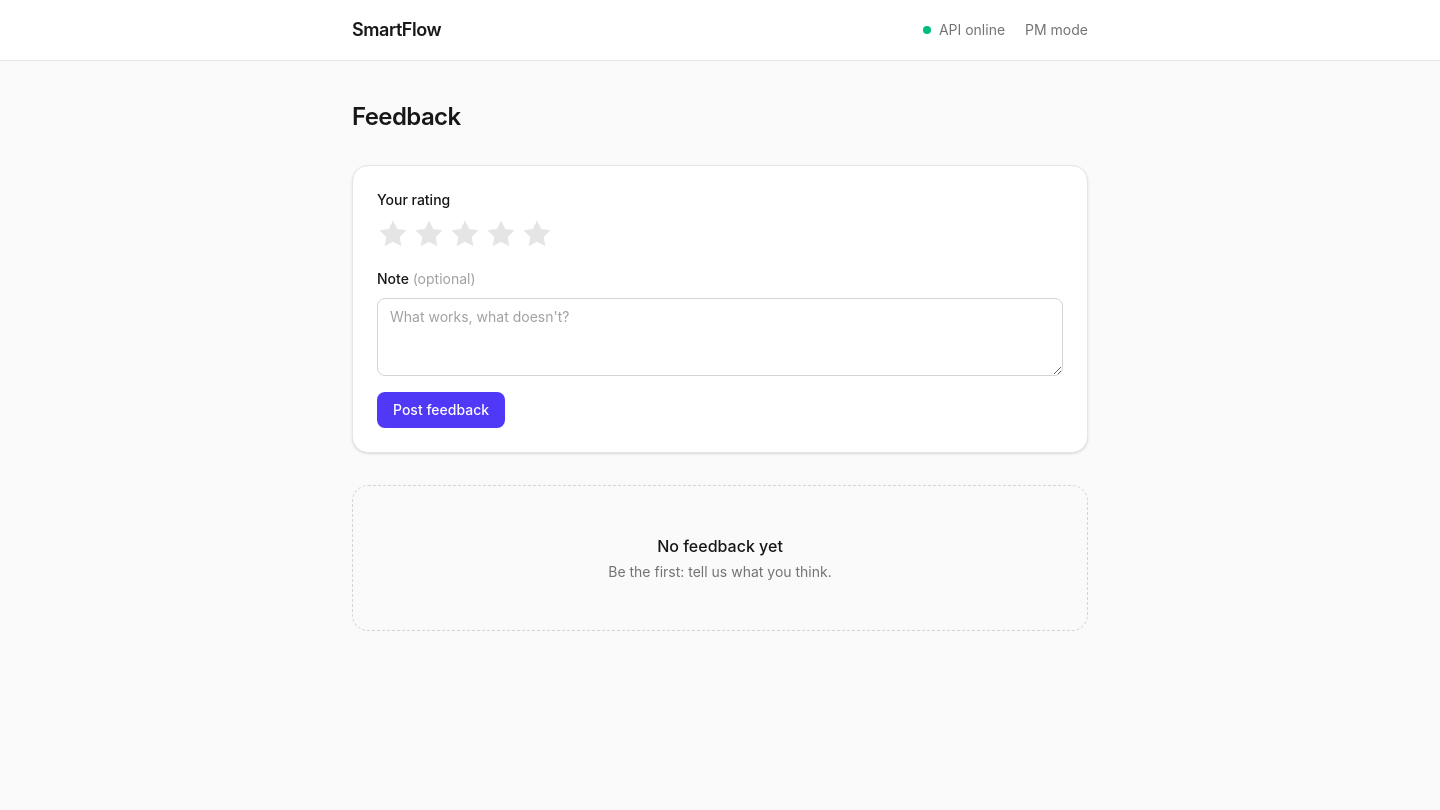
Scenario: PM mode (spec 007) › AC-3: shows the API message for 401 and stays off
Click the button "PM mode" at (1057,30), box [1025, 20, 1088, 40]
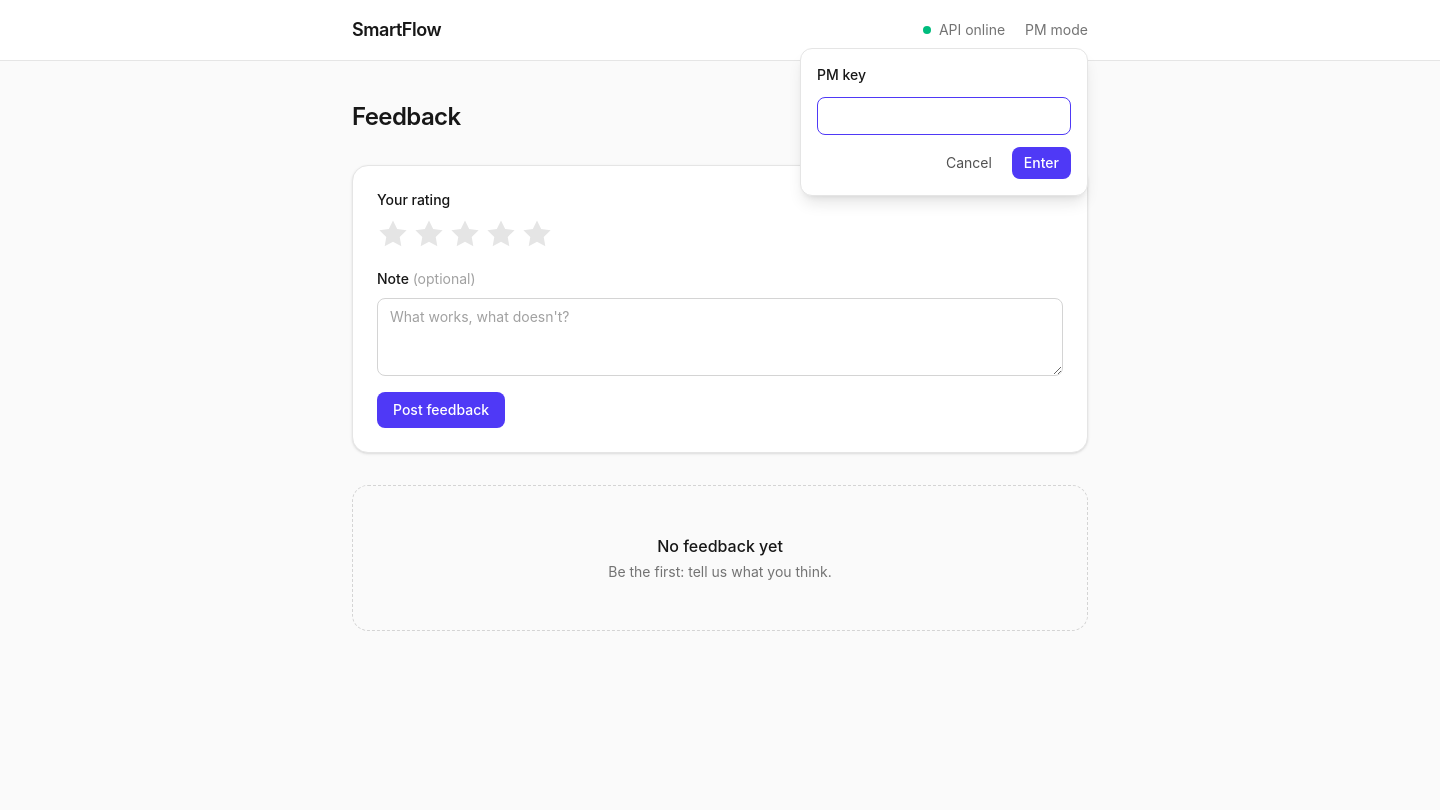
Type "wrong" into the password field labelled "PM key" at (944,116), box [817, 97, 1071, 135]
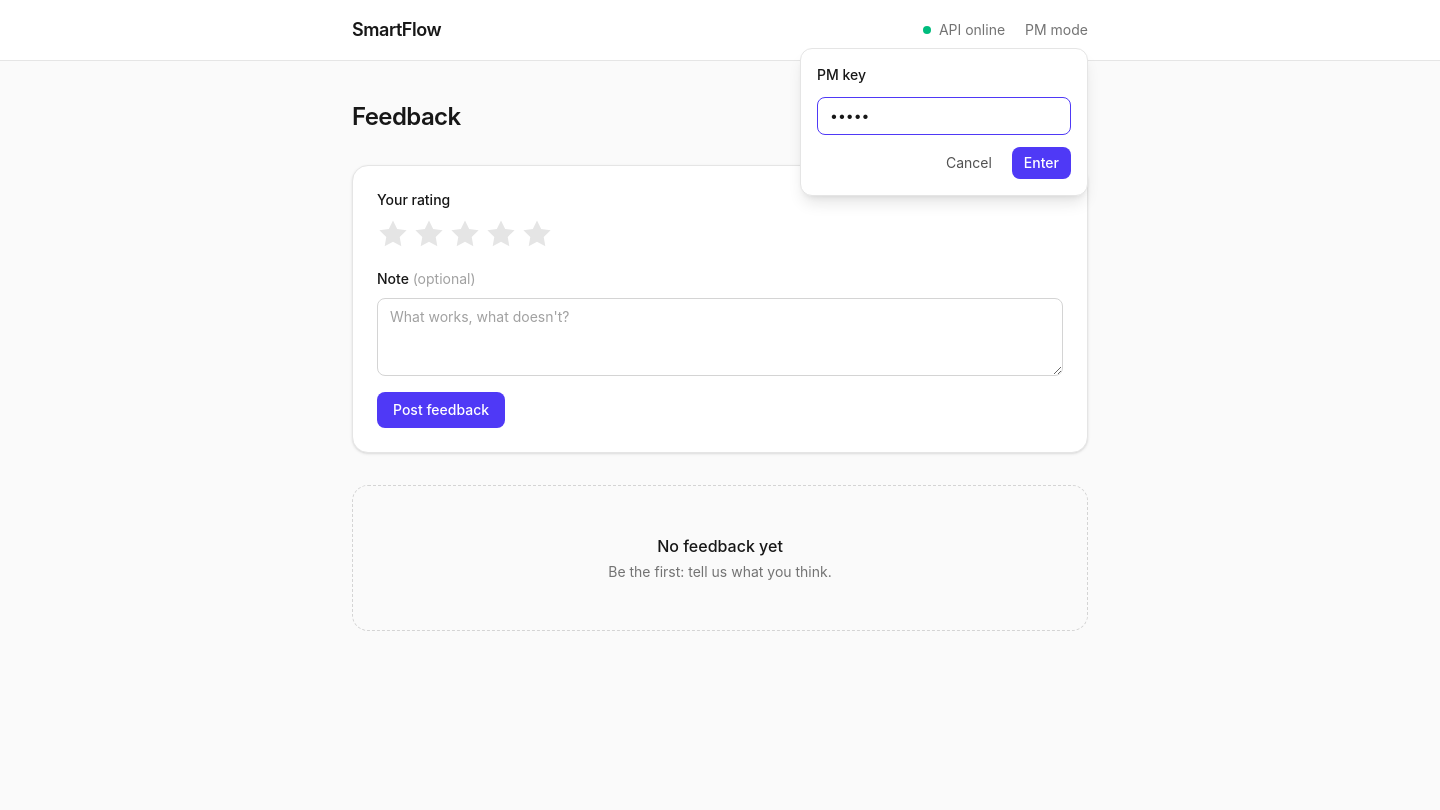
Click the button "Enter" at (1041,163), box [1012, 147, 1071, 179]
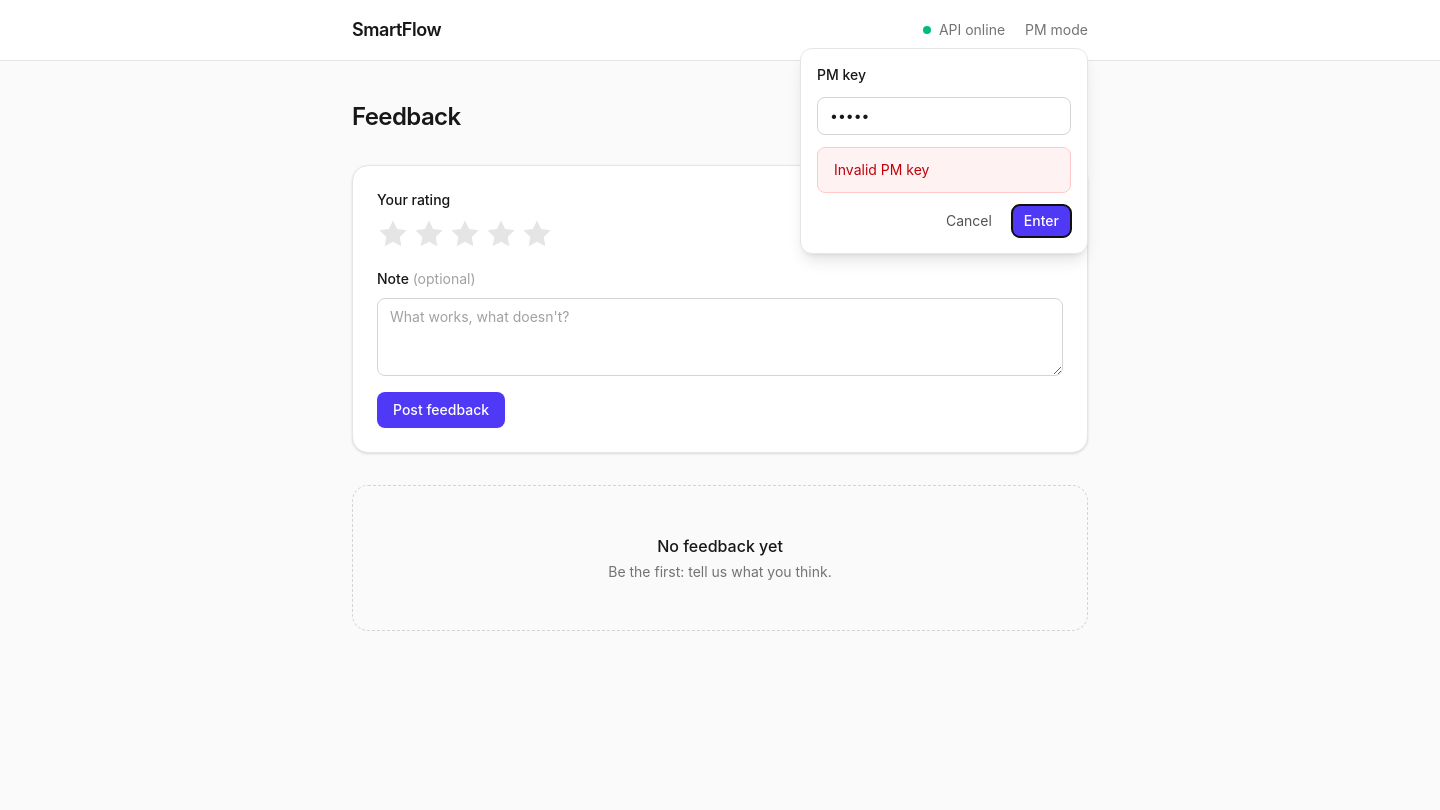
Expected: the message "Invalid PM key" is shown, [817, 147, 1071, 193]
